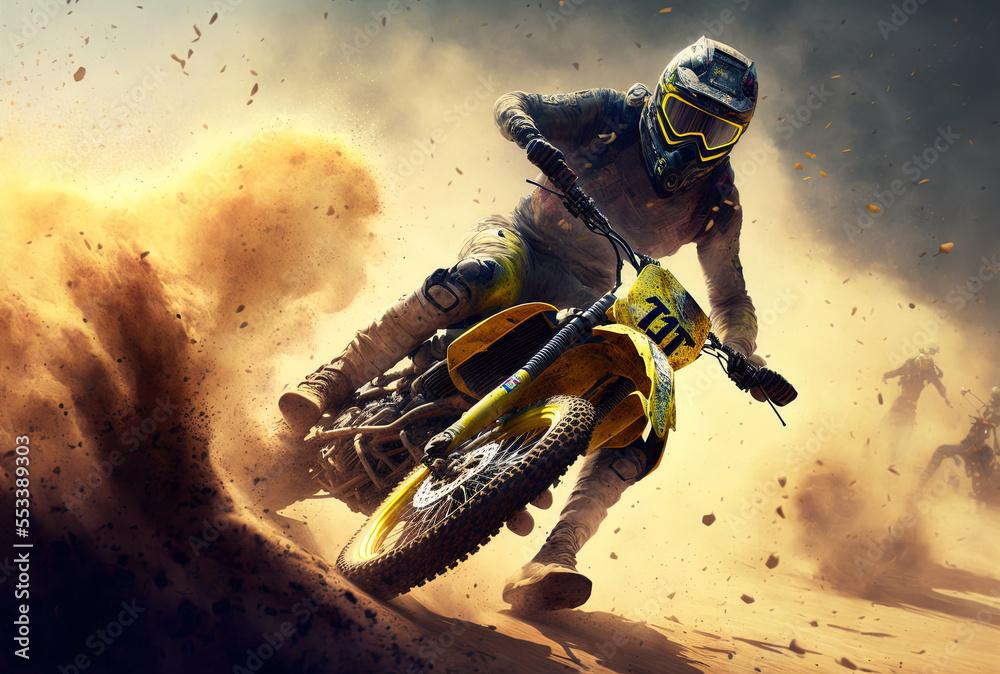helmet: (637, 33, 760, 200)
